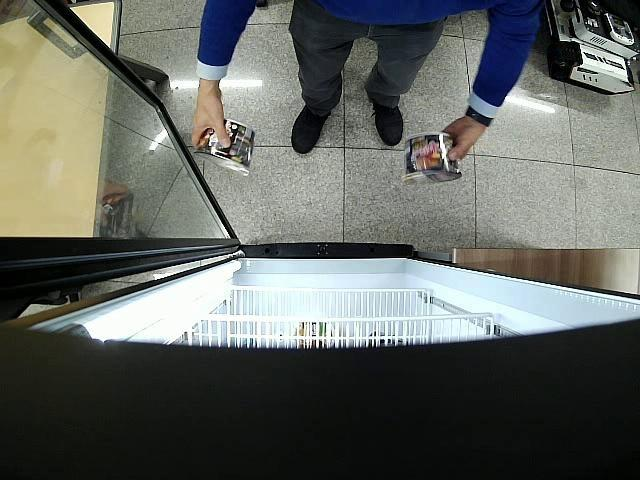07_buldak_L: (193, 118, 254, 176), (402, 132, 462, 186)
